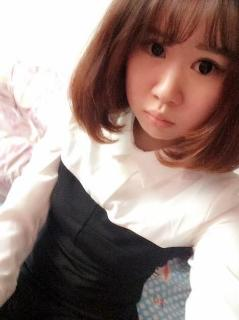long sleeve dress: (0, 105, 239, 319)
